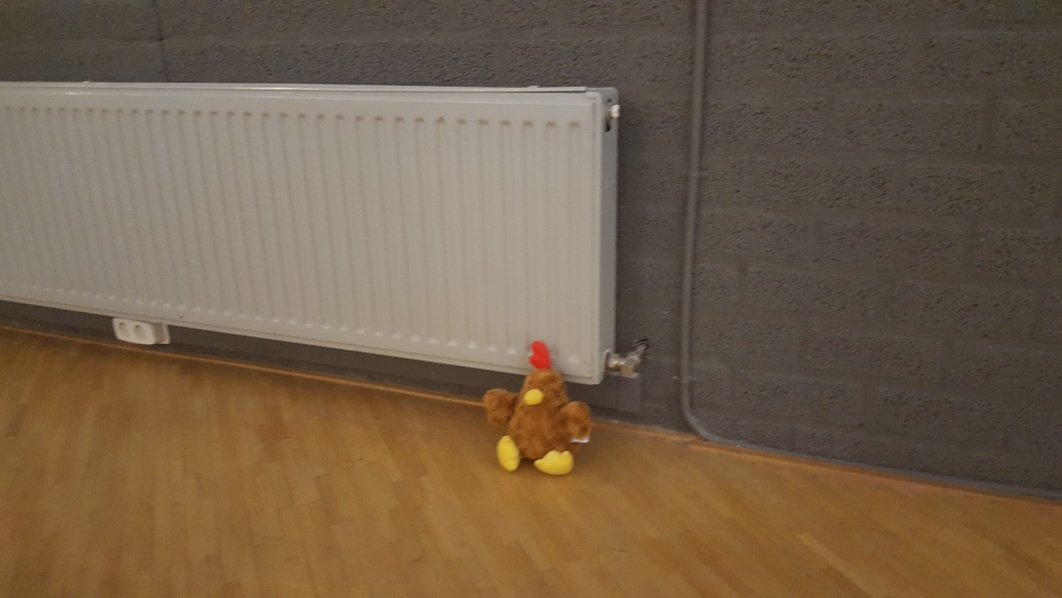chicken: (484, 339, 594, 481)
